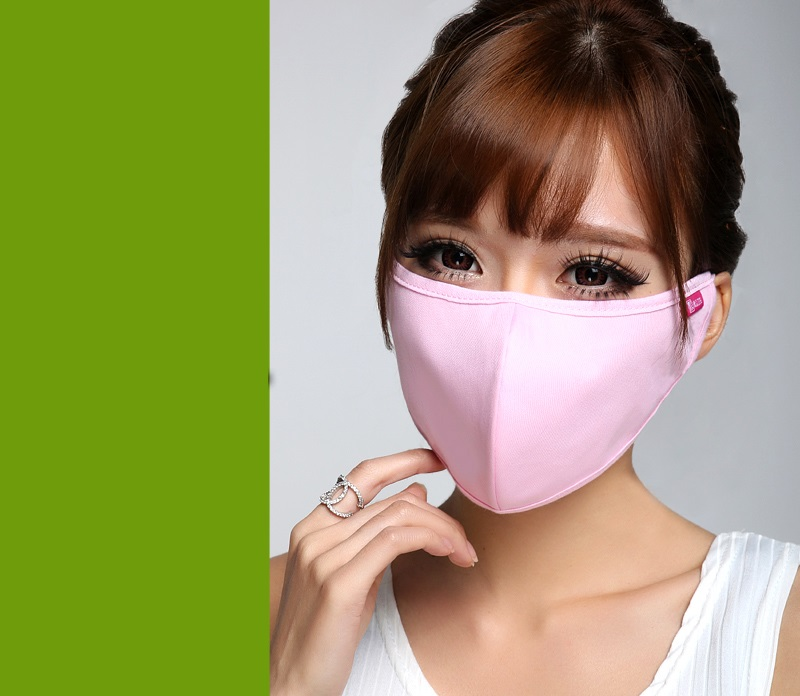face_mask: (392, 112, 680, 486)
